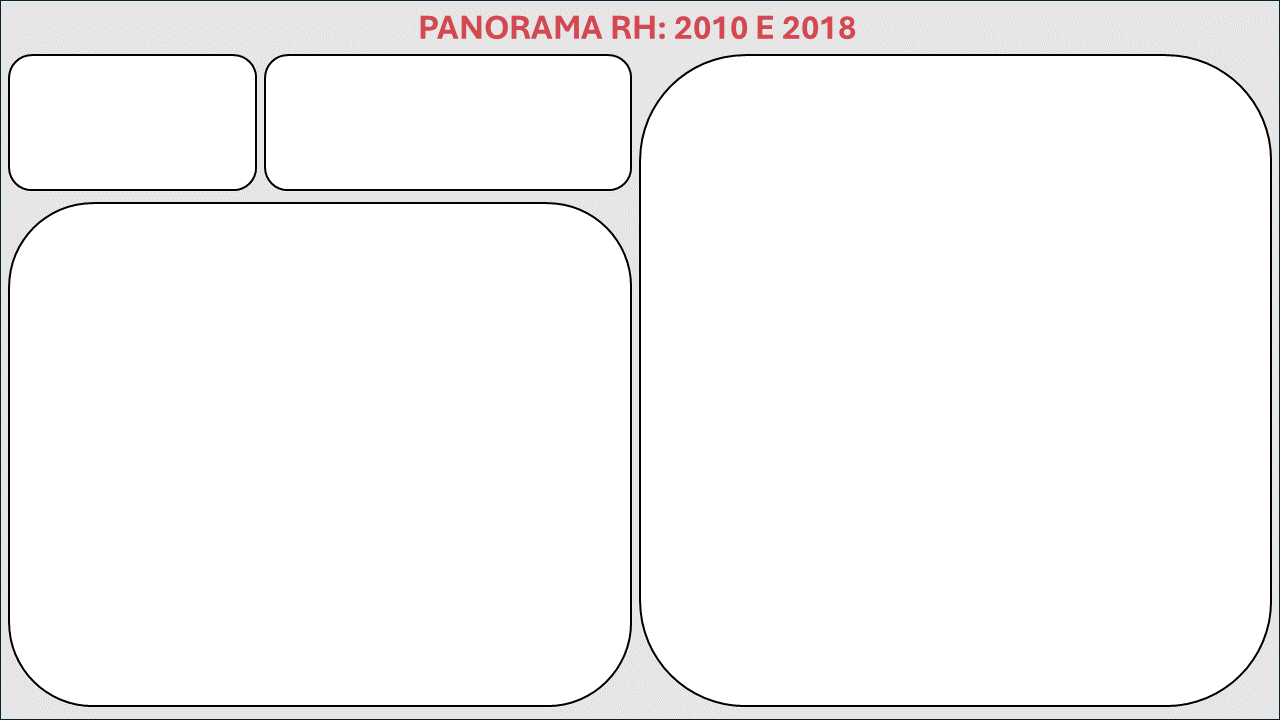

This screenshot's page, from the dashboard's own definition file:
{"tool":"powerbi","page":{"name":"Página 1","canvas":[1280,720],"ordinal":0},"visuals":[{"type":"card","title":"CONTRATAÇÕES","fields":{"Values":["BaseFuncionarios.Medida Contratacoes"]},"box":[153.7,11,174.3,141.3],"z":0},{"type":"PBI_CV_25997FEB_F466_44FA_B562_AC4063283C4C","title":"CONTRATAÇÕES AO LONGO DOS ANOS","fields":{"measure":["BaseFuncionarios.Medida Contratacoes"],"axis":["BaseFuncionarios.Data de Contratacao.Variation.Hierarquia de datas.Ano"]},"box":[0,152.3,478.9,150.9],"z":1},{"type":"card","title":"FUNCIONÁRIOS ATIVOS","fields":{"Values":["BaseFuncionarios.Medida Funcionarios Ativos"]},"box":[478.9,11,253.9,141.3],"z":2}]}

Visuals, with their boxes in screenshot pixels (x1, y1, x2, y2), scaled from the page's 1280x720 canvas onto the 1280x720 screenshot:
"CONTRATAÇÕES" card: {"x1": 154, "y1": 11, "x2": 328, "y2": 152}
"CONTRATAÇÕES AO LONGO DOS ANOS" PBI_CV_25997FEB_F466_44FA_B562_AC4063283C4C: {"x1": 0, "y1": 152, "x2": 479, "y2": 303}
"FUNCIONÁRIOS ATIVOS" card: {"x1": 479, "y1": 11, "x2": 733, "y2": 152}
